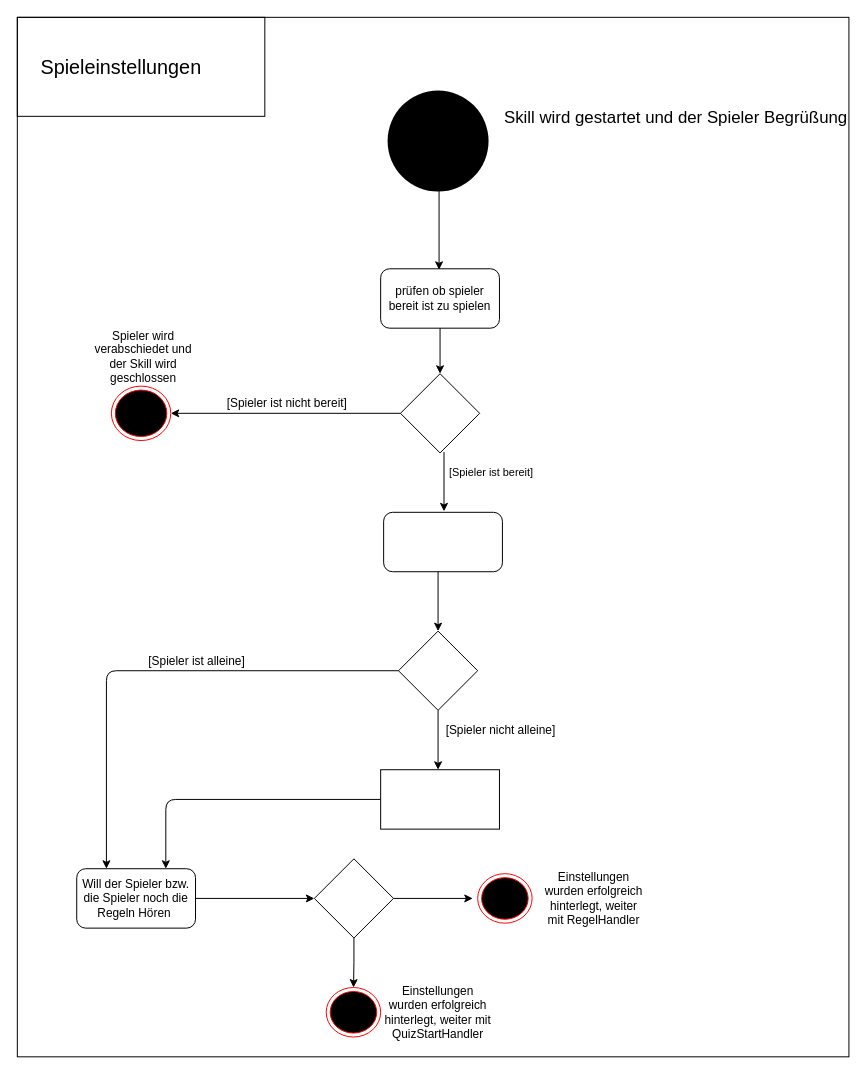
Some shapes in this 866 by 1074 pixel diagram are drawn without their labels. The centre of each missing label's shape, as x and y in pixels:
"Festlegen der Spieler Anzahl und deren Namen" belongs at point (439, 799).
"prüfen ob Spieler alleine ist" belongs at point (442, 541).
